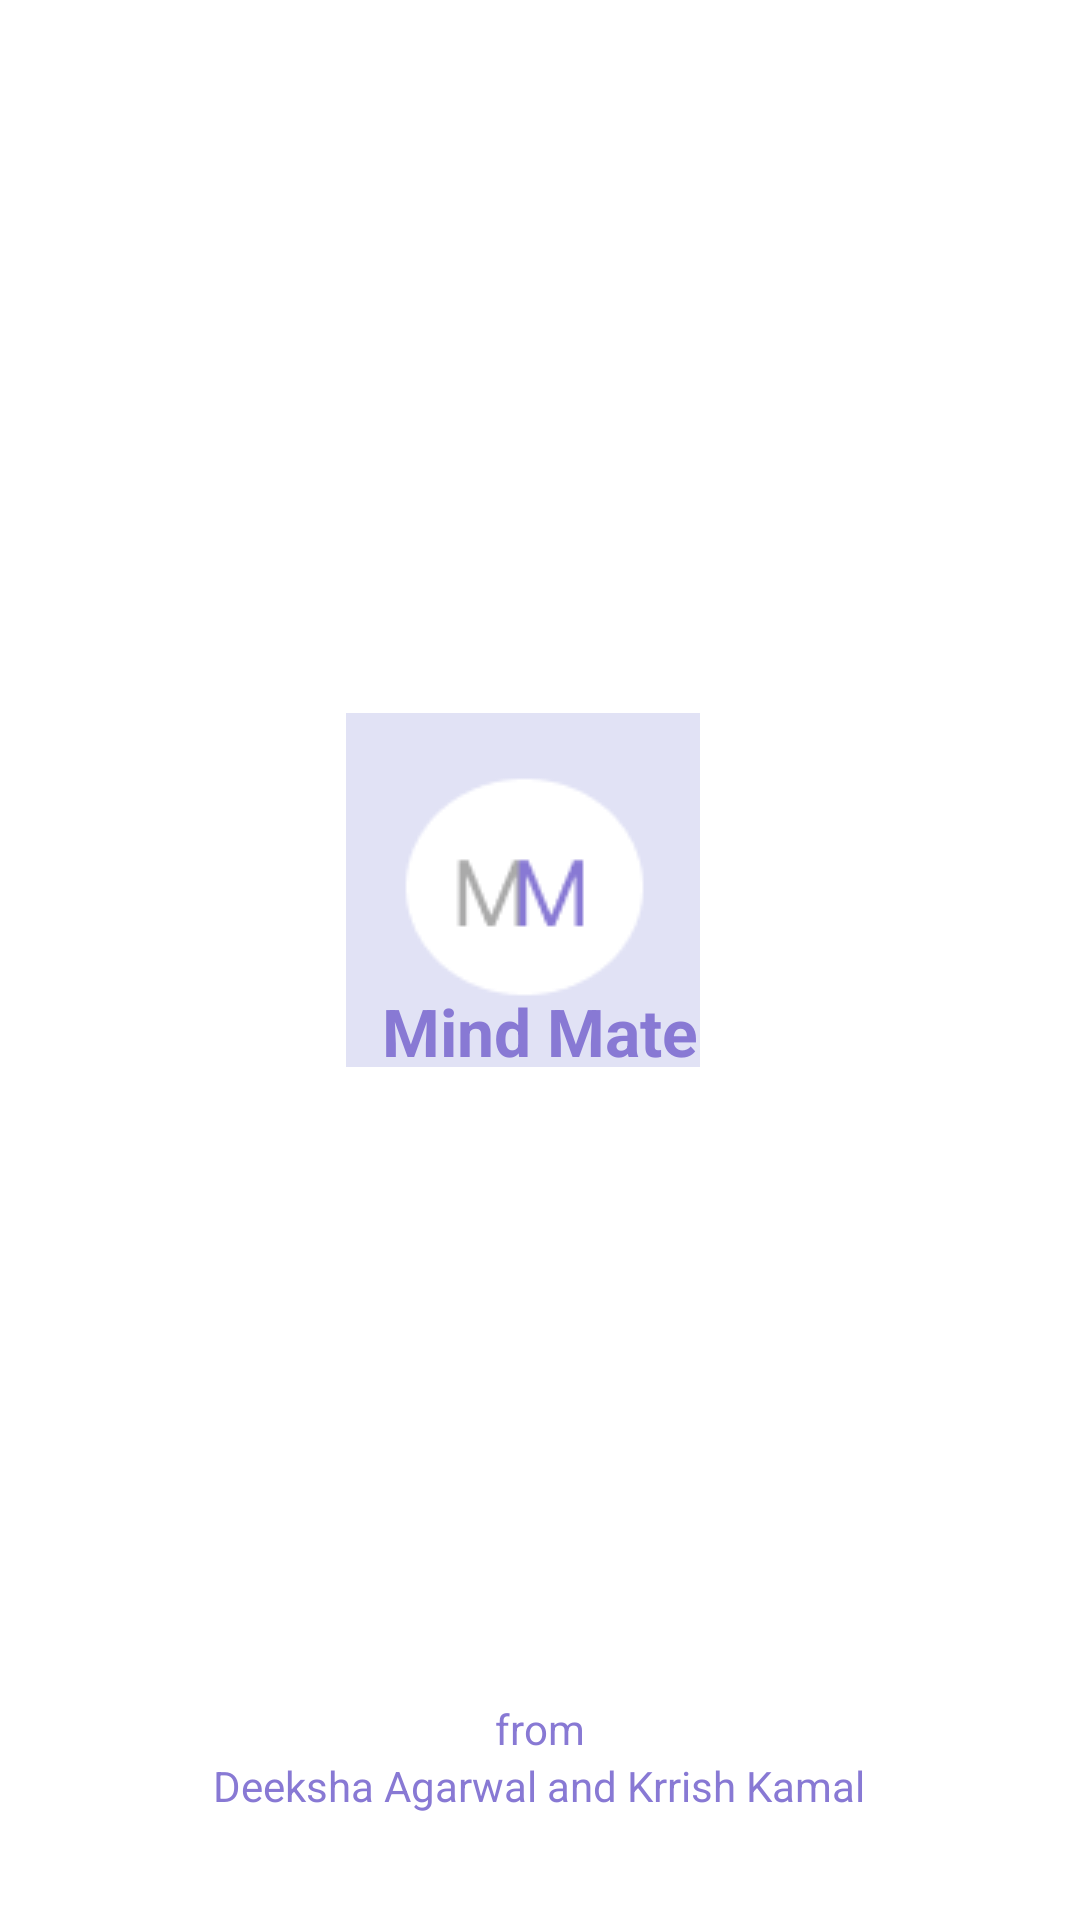

Where to tap for icons on this 1080px×1920px app screen, as point (x, y):
app: point (523, 890)
